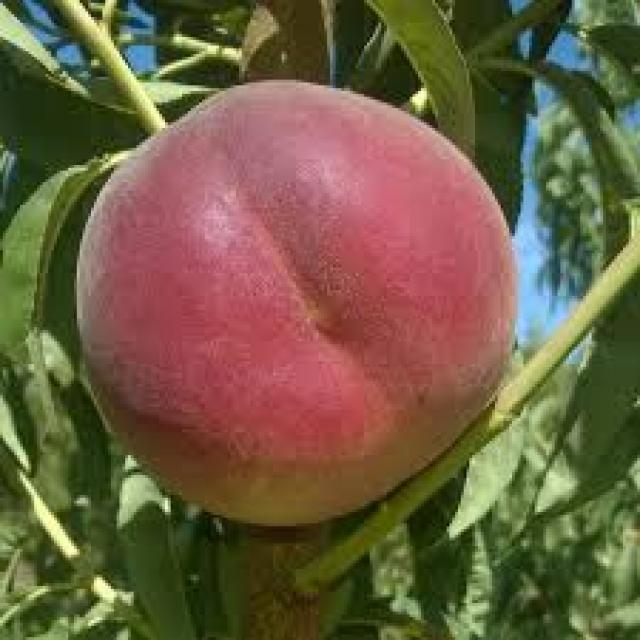organic waste: (74, 74, 515, 529)
